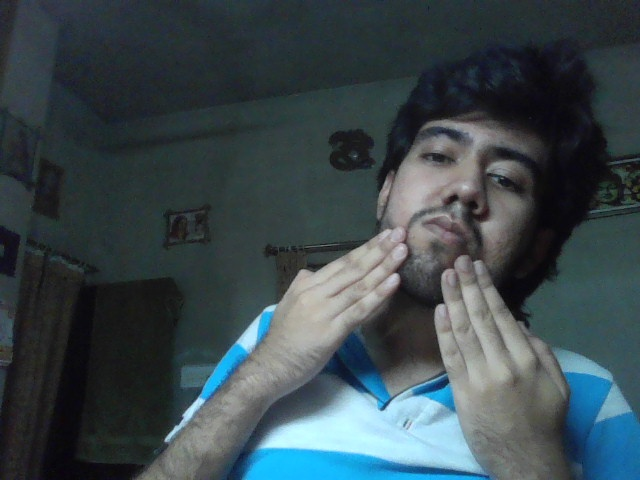ThankYou: (273, 224, 570, 446)
